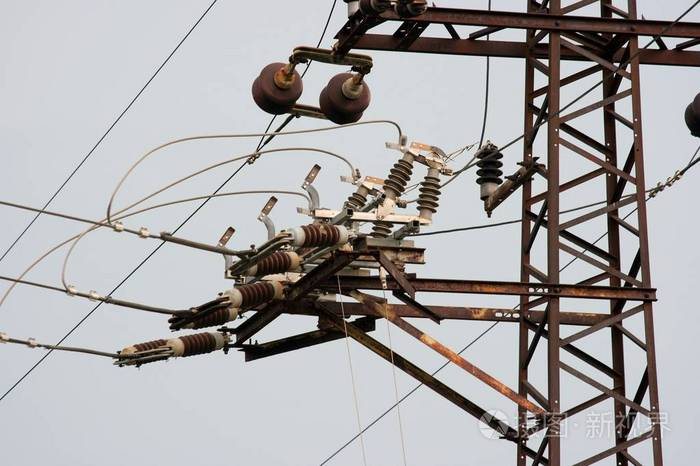insulator: (256, 63, 311, 113), (321, 74, 375, 123), (475, 144, 502, 186)
